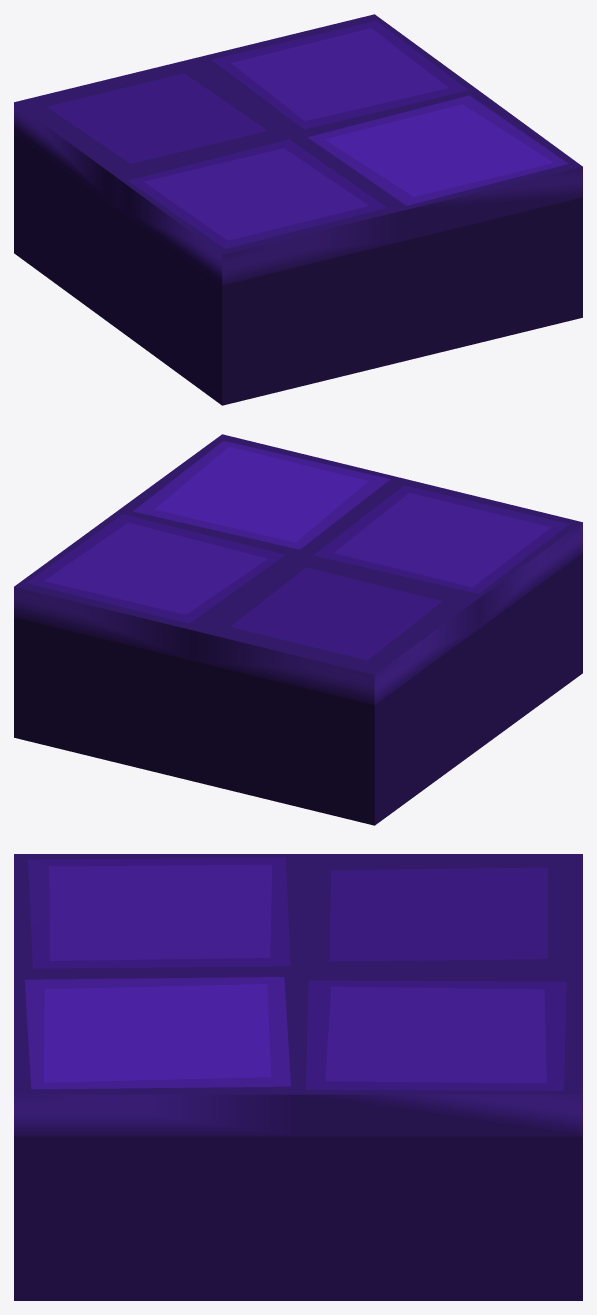
Rendered from elevated_floor_01.fbx.
3 views of the same model, one above another, from view 1: azimuth 30°, elevation 25°; view 2: azimuth 150°, elevation 25°; view 3: azimuth 270°, elevation 25° (orthographic). The views are drawn at different scales.
Visible parts, largest first — view 1: elevated_floor_01; view 2: elevated_floor_01; view 3: elevated_floor_01.
Boxes of the visible parts, bbox=[...] form: elevated_floor_01: bbox=[14, 14, 582, 405]; elevated_floor_01: bbox=[14, 434, 582, 825]; elevated_floor_01: bbox=[14, 854, 582, 1300].
Bounding box in the file's own units: 100 × 40 × 100.
1 material, 1 textured.
